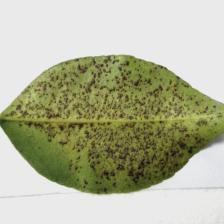canker: (65, 77, 171, 172)
